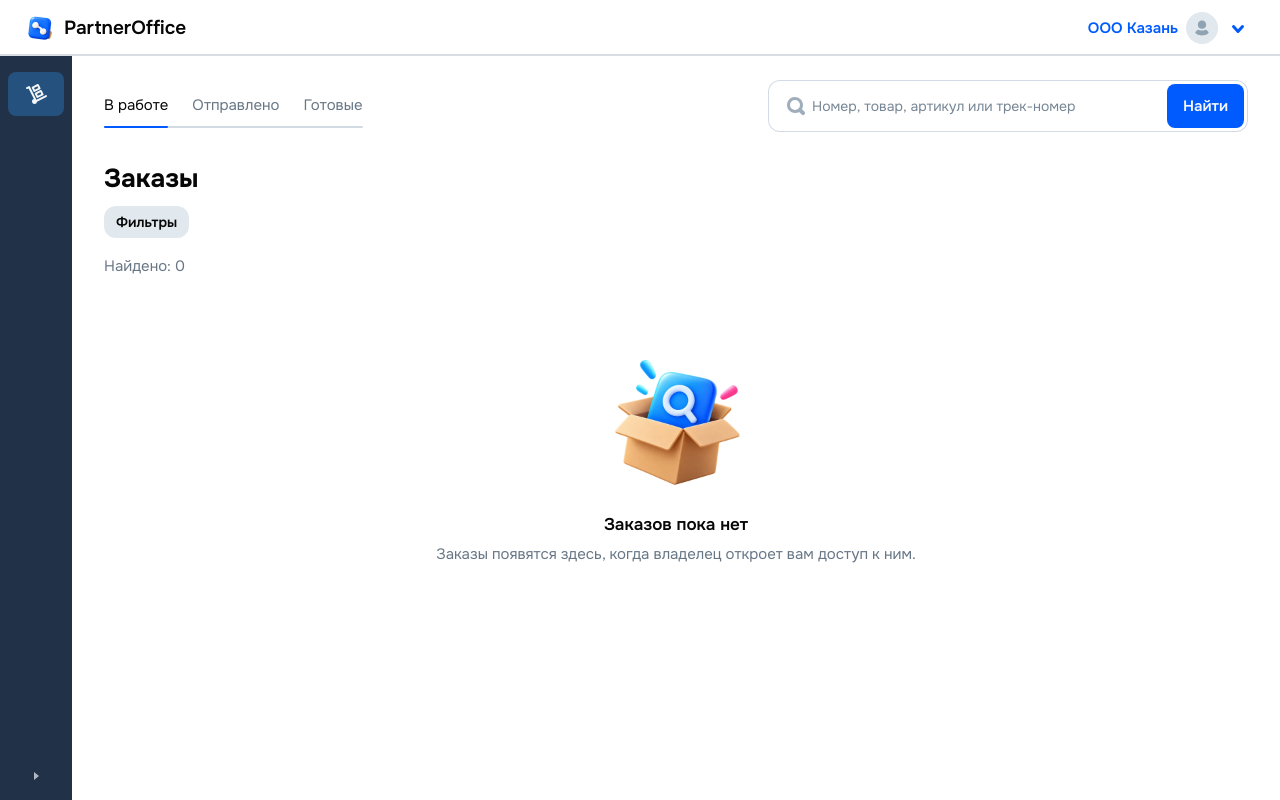
Scenario: Список заказов › запоминает вкладку при переходе из раздела и открывает её снова через меню и главную
The image size is (1280, 800).
Click the link "Готовые" at (333, 105), box [303,95,363,115]
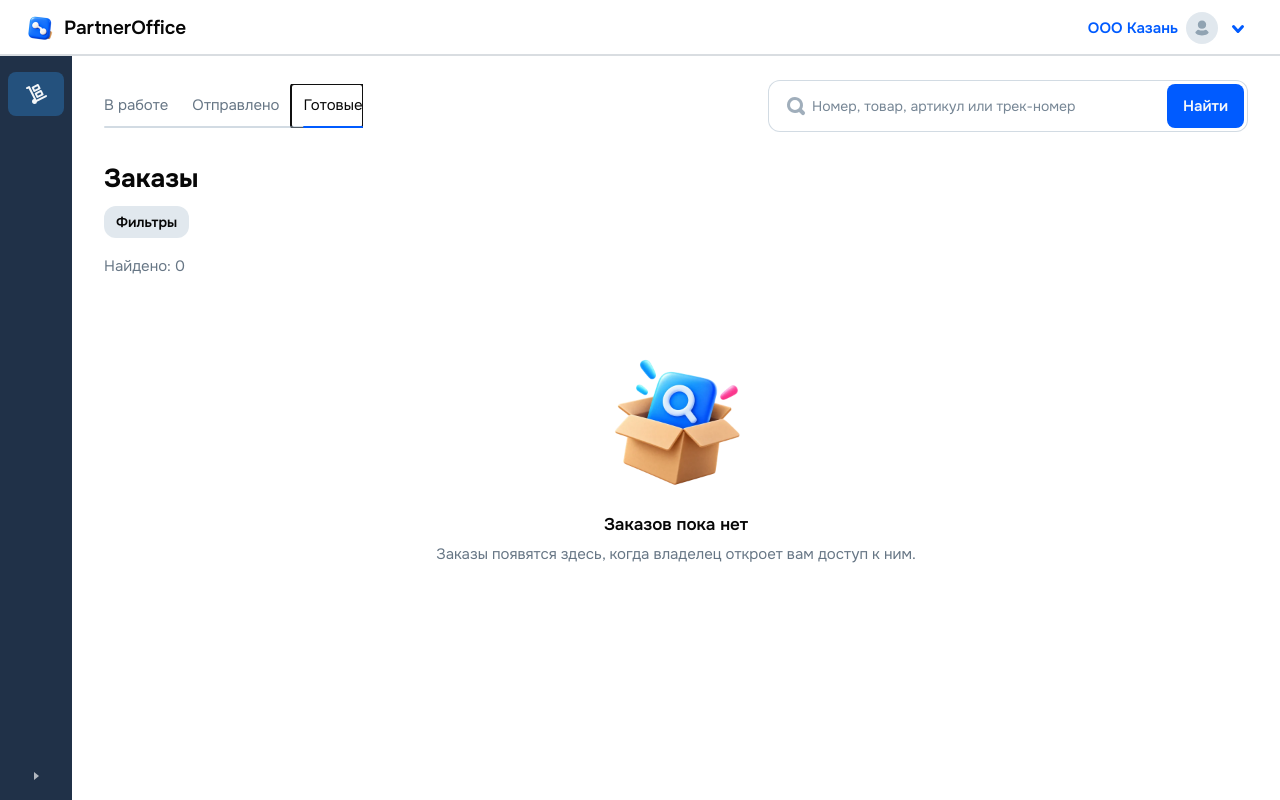
Click the link with aria-label "На главную" at (105, 28), box [24,12,186,44]
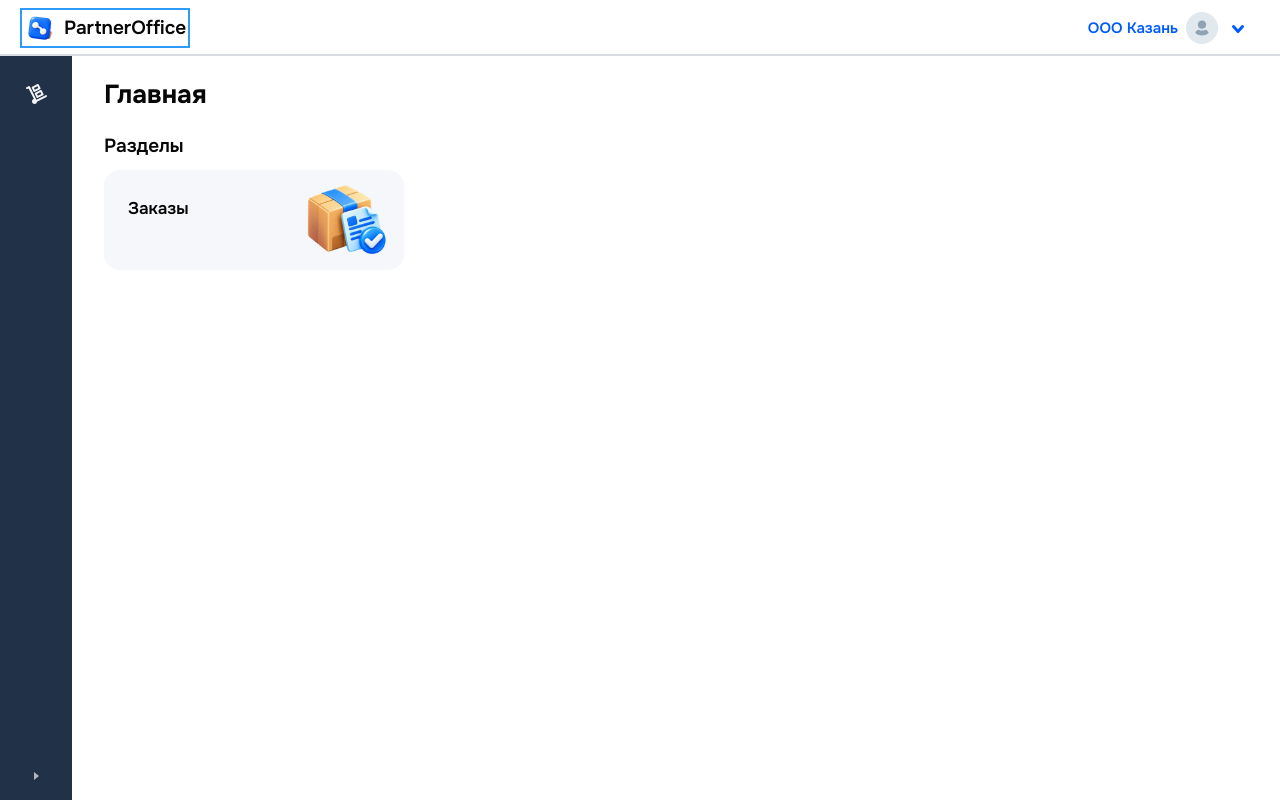
Click the link "Заказы" at (158, 208), box [104,170,404,270]
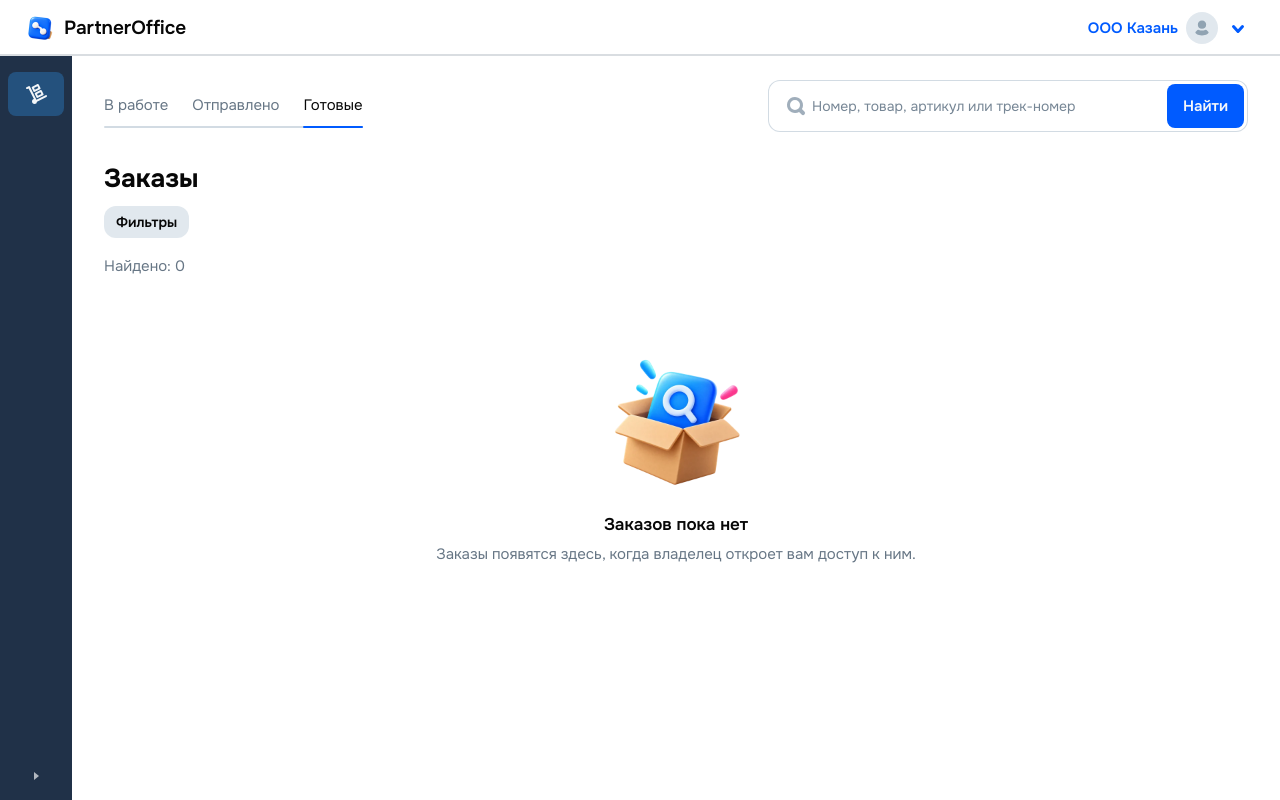
Expected: the link "Готовые" is shown, [303,95,363,115]
Click the link "Отправлено" at (236, 105), box [192,95,279,115]
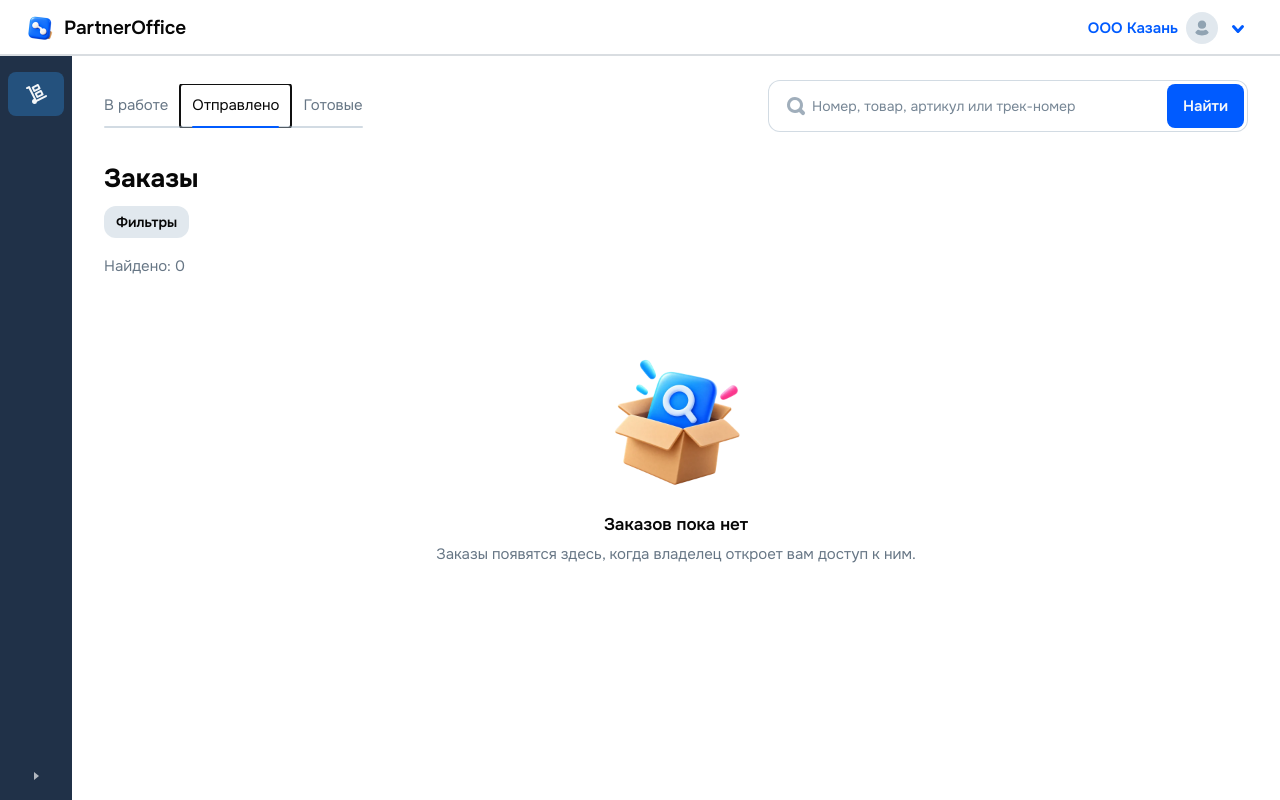
Click the link with aria-label "На главную" at (105, 28), box [24,12,186,44]
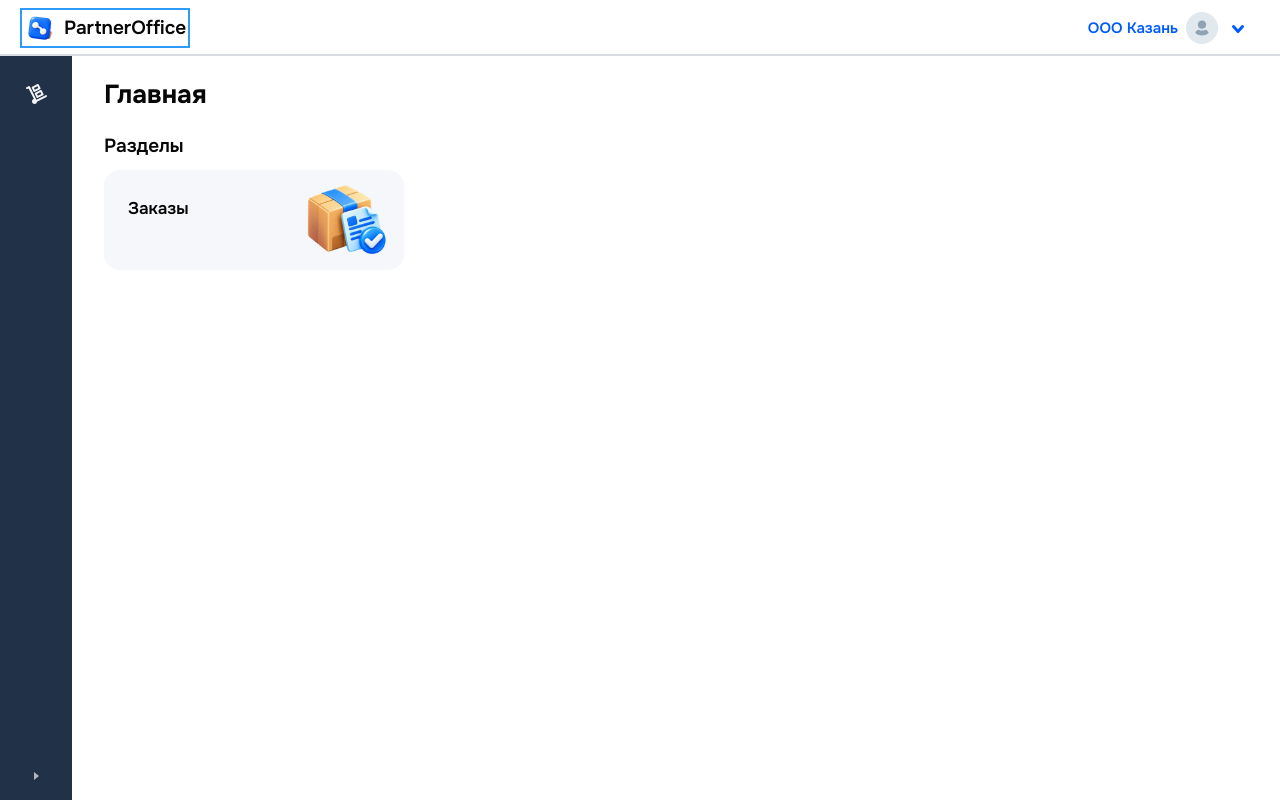
Click the link named "Заказы" at (36, 94), box [24,82,48,106]
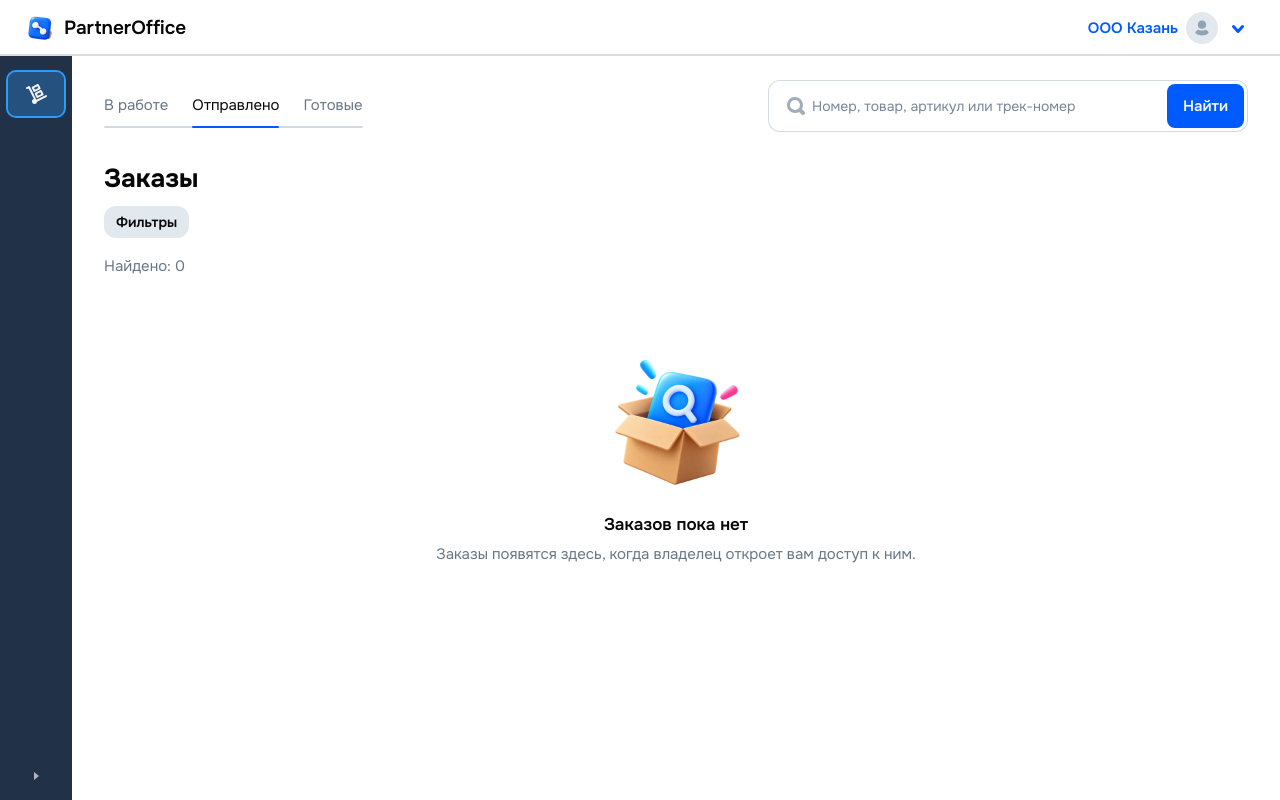
Expected: the link "Отправлено" is shown, [192,95,279,115]
